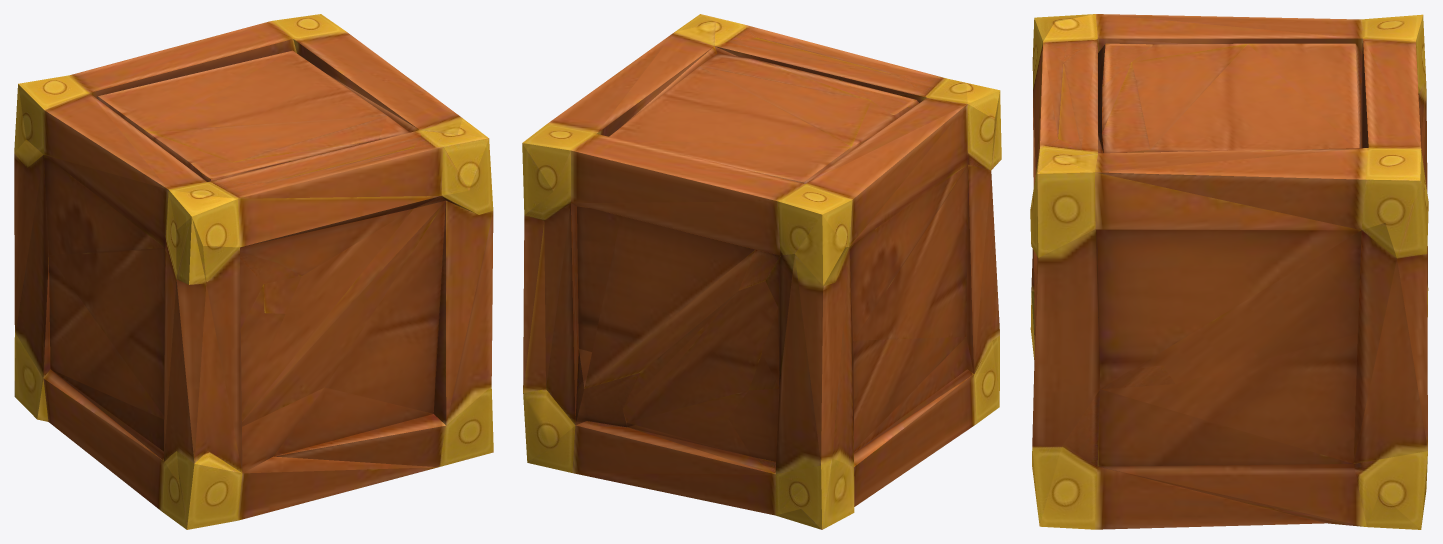
File: caixote-madeira.glb
The picture shows the model from 3 angles, left to right: view 1: azimuth 30°, elevation 25°; view 2: azimuth 150°, elevation 25°; view 3: azimuth 270°, elevation 25°; orthographic projection. The views are drawn at different scales.
Parts seen in each view (by area): view 1: Mesh_0; view 2: Mesh_0; view 3: Mesh_0.
Boxes of the visible parts, bbox=[...] form: Mesh_0: bbox=[14, 14, 493, 529]; Mesh_0: bbox=[522, 14, 1001, 529]; Mesh_0: bbox=[1030, 14, 1428, 529].
Size of the model in its own units: 1.89 by 1.9 by 1.89.
1 material, 1 textured.
